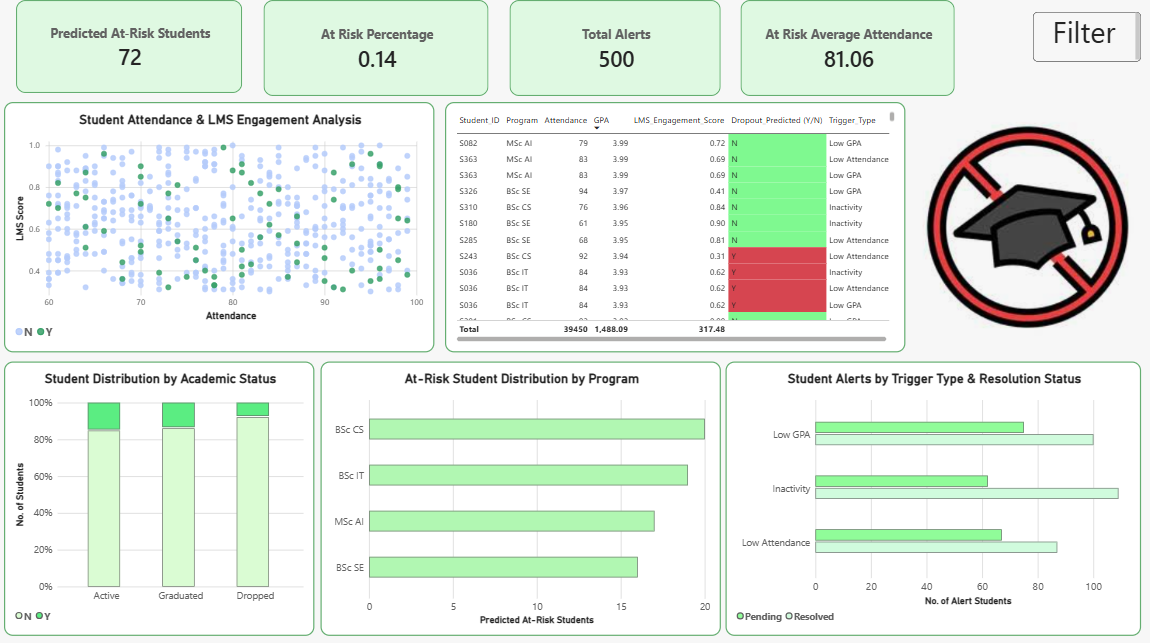

Layout of this report page (visuals, bound fields, positions):
{"tool":"powerbi","page":{"name":"Student Retention & Dropout Risk Analytics","canvas":[1920,1080],"ordinal":2},"visuals":[{"type":"image","box":[1512.5,170,407,418],"z":0},{"type":"cardVisual","fields":{"Data":["Dropout_Predict.Predicted At-Risk Students"]},"box":[30,0,377.5,155],"z":1000},{"type":"cardVisual","fields":{"Data":["Dropout_Predict.At Risk Percentage"]},"box":[442.5,0,375,160],"z":2000},{"type":"cardVisual","fields":{"Data":["Alert_Predict.Total Alerts"]},"box":[852.5,0,352.5,160],"z":3000},{"type":"cardVisual","fields":{"Data":["Dropout_Predict.At Risk Average Attendance"]},"box":[1237.5,0,357.5,160],"z":4000},{"type":"clusteredBarChart","title":"At-Risk Student Distribution by Program","fields":{"Category":["Student_Info.Program"],"Y":["Dropout_Predict.Predicted At-Risk Students"]},"box":[537.5,602.5,667.5,457.5],"z":5000},{"type":"hundredPercentStackedColumnChart","title":"Student Distribution by Academic Status","fields":{"Category":["Student_Info.Status"],"Series":["Dropout_Predict.Dropout_Predicted (Y/N)"],"Y":["Count(Dropout_Predict.Student_ID)"]},"box":[10,602.5,517.5,457.5],"z":6000},{"type":"clusteredBarChart","title":"Student Alerts by Trigger Type & Resolution Status","fields":{"Category":["Alert_Predict.Trigger_Type"],"Series":["Alert_Predict.Status"],"Y":["CountNonNull(Alert_Predict.Alert_ID)"]},"box":[1212.5,602.5,692.5,457.5],"z":7000},{"type":"textbox","box":[1725,20,180,82.5],"z":8000},{"type":"scatterChart","title":"Student Attendance & LMS Engagement Analysis","fields":{"Category":["Dropout_Predict.Student_ID"],"Series":["Dropout_Predict.Dropout_Predicted (Y/N)"],"X":["Sum(Dropout_Predict.Attendance_%)"],"Y":["Sum(Dropout_Predict.LMS_Engagement_Score)"]},"box":[10,170,717.5,417.5],"z":9000},{"type":"tableEx","fields":{"Values":["Dropout_Predict.Student_ID","Student_Info.Program","Sum(Dropout_Predict.Attendance_%)","Sum(Dropout_Predict.GPA)","Sum(Dropout_Predict.LMS_Engagement_Score)","Dropout_Predict.Dropout_Predicted (Y/N)","Alert_Predict.Trigger_Type"]},"box":[745,170,767.5,417.5],"z":10000},{"type":"actionButton","title":"Open filter","box":[1713.7,19.8,190.4,95.2],"z":12000}]}

Visuals, with their boxes in screenshot pixels (x1, y1, x2, y2), scaled from the page's 1920x1080 canvas onto the 1150x643 screenshot:
image: (906, 101, 1149, 350)
cardVisual - Dropout_Predict.Predicted At-Risk Students: (18, 0, 244, 92)
cardVisual - Dropout_Predict.At Risk Percentage: (265, 0, 490, 95)
cardVisual - Alert_Predict.Total Alerts: (511, 0, 722, 95)
cardVisual - Dropout_Predict.At Risk Average Attendance: (741, 0, 955, 95)
"At-Risk Student Distribution by Program" clusteredBarChart: (322, 359, 722, 631)
"Student Distribution by Academic Status" hundredPercentStackedColumnChart: (6, 359, 316, 631)
"Student Alerts by Trigger Type & Resolution Status" clusteredBarChart: (726, 359, 1141, 631)
textbox: (1033, 12, 1141, 61)
"Student Attendance & LMS Engagement Analysis" scatterChart: (6, 101, 436, 350)
tableEx - Dropout_Predict.Student_ID x Student_Info.Program: (446, 101, 906, 350)
"Open filter" actionButton: (1026, 12, 1140, 68)
